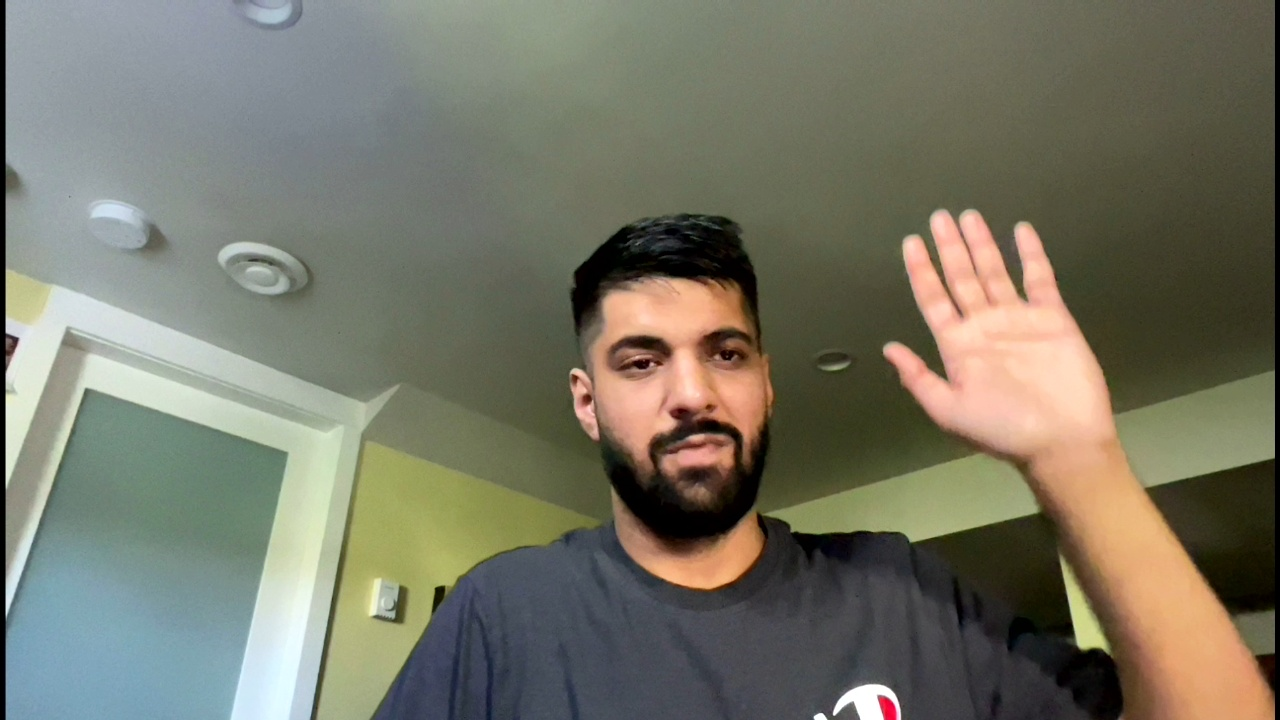Hey!: (870, 203, 1159, 473)
